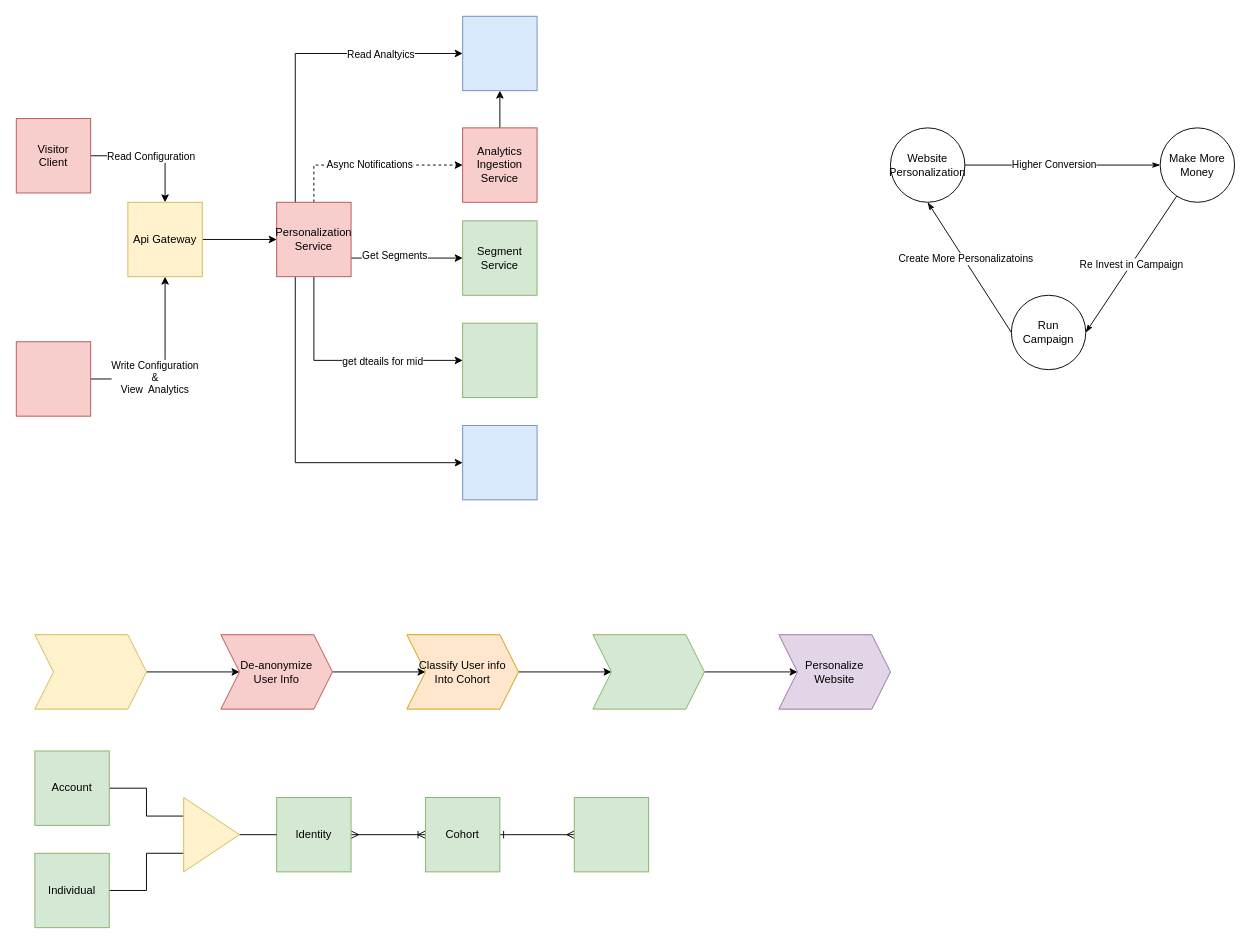
This 1251x944 diagram has some shape labels left out. Here are the shapes that lost their labels. From the top down, the centre of each, then its label:
At [499,53]: "Analytics Service".
At [53,378]: "Admin Client".
At [499,360]: "Epsilon".
At [499,462]: "AI recommendation Service".
At [90,671]: "Collect User Information".
At [648,671]: "Select Personalization".
At [211,834]: "ISA".
At [611,834]: "Personalization".
